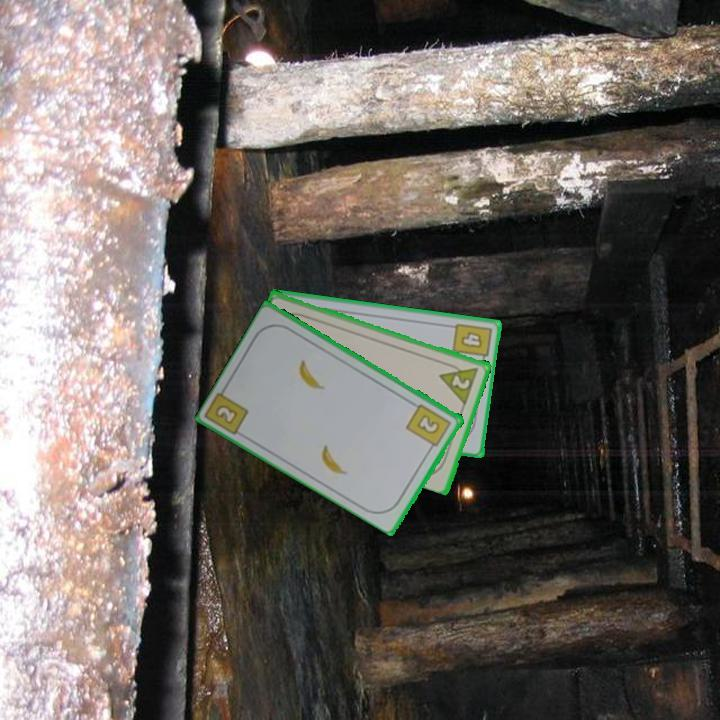2b: (403, 400, 454, 454), (214, 403, 238, 425)
2p: (436, 358, 482, 406)
4b: (449, 319, 494, 367)
